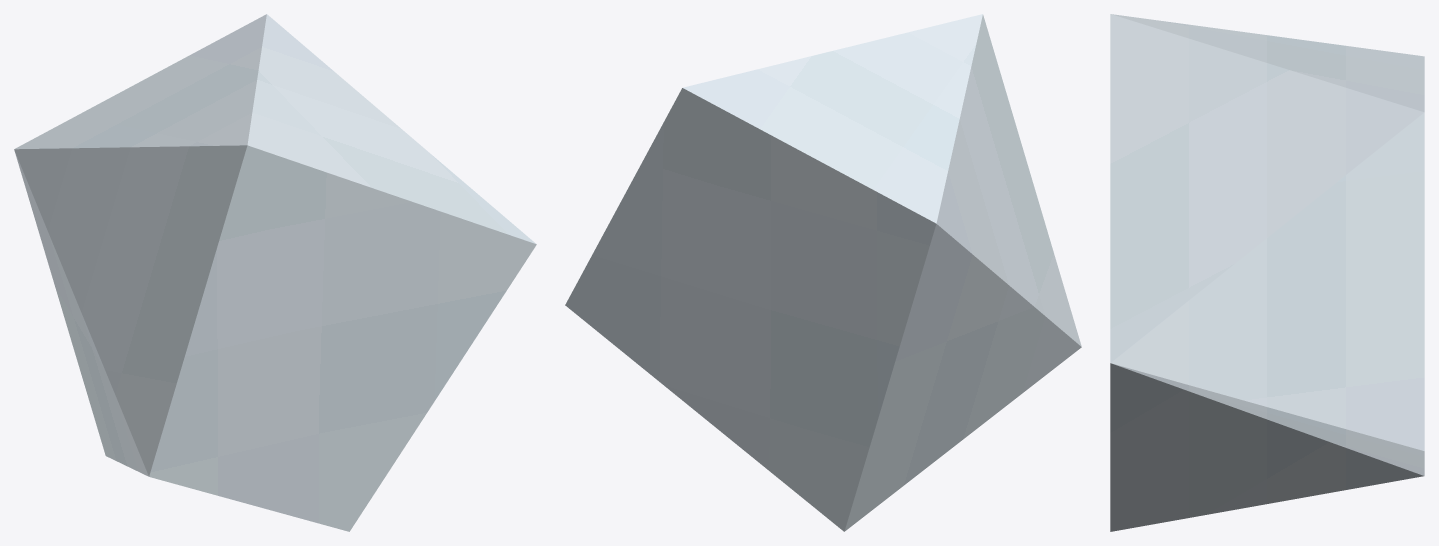
File: zbq-11m632545-geode.glb
The picture shows the model from 3 angles, left to right: view 1: azimuth 30°, elevation 25°; view 2: azimuth 150°, elevation 25°; view 3: azimuth 270°, elevation 25°; orthographic projection. The views are drawn at different scales.
Visible parts, largest first — view 1: Node; view 2: Node; view 3: Node.
Boxes of the visible parts, left/top/right/bottom form: Node: left=14, top=14, right=536, bottom=531; Node: left=565, top=14, right=1081, bottom=531; Node: left=1110, top=14, right=1424, bottom=531.
Bounding box in the file's own units: 1.58 × 1.61 × 0.9885.
Materials: 1 (1 with a texture image).
